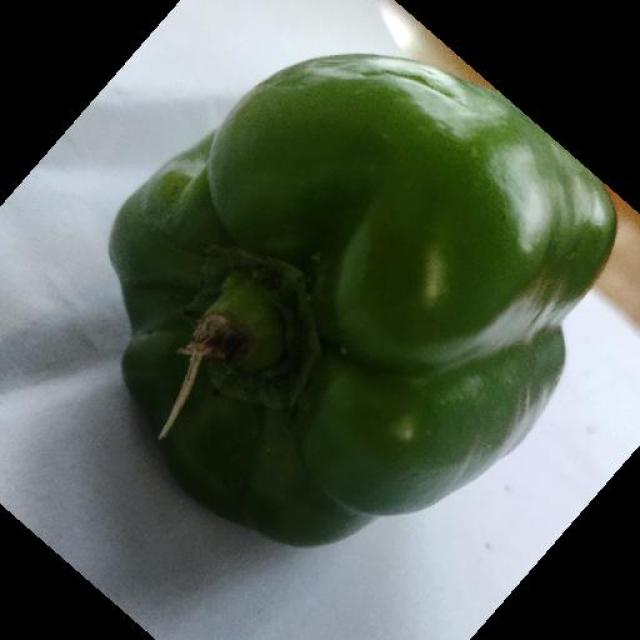Fresh_Capsicum: (135, 34, 586, 495)
